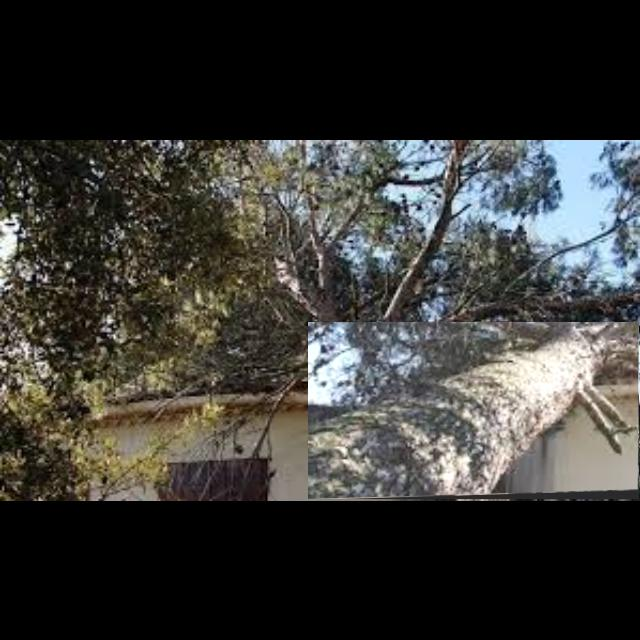Fallen Tree: (308, 322, 640, 500)
